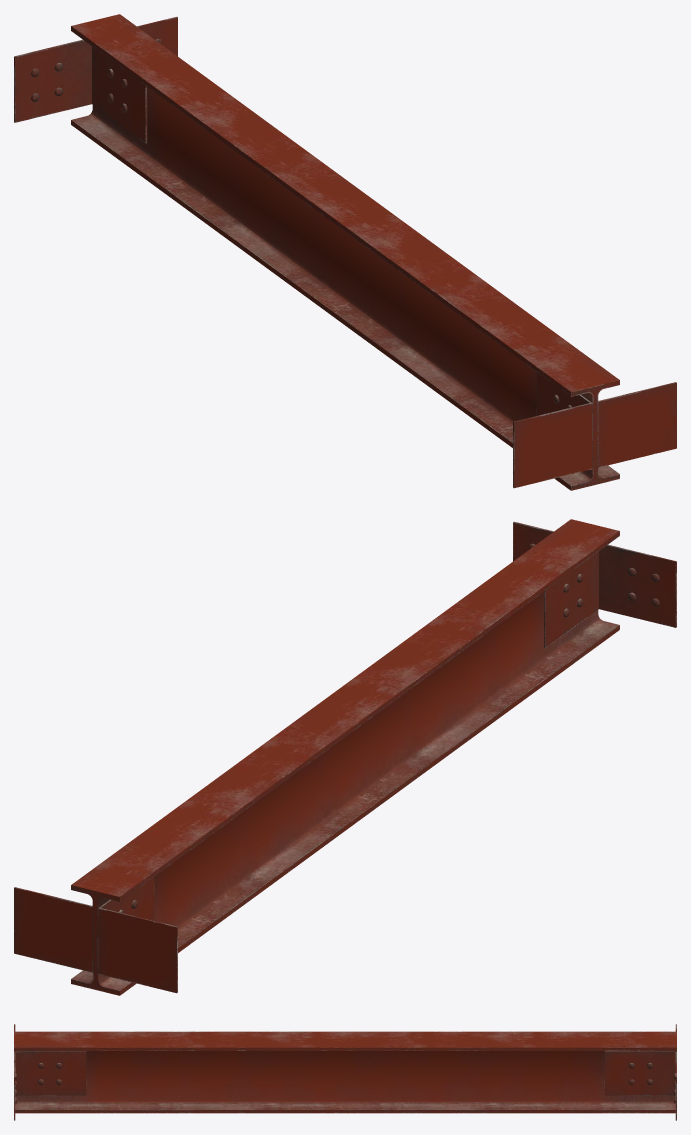
File: celik_h_kiris_4m.gltf
3 renders of one model, top to bottom at view 1: azimuth 30°, elevation 25°; view 2: azimuth 150°, elevation 25°; view 3: azimuth 270°, elevation 25°, orthographic. The views are drawn at different scales.
Parts seen in each view (by area): view 1: celik_h_kiris_4m; view 2: celik_h_kiris_4m; view 3: celik_h_kiris_4m.
Part boxes in pixels (left/top/right/bottom): celik_h_kiris_4m: left=14, top=14, right=676, bottom=490; celik_h_kiris_4m: left=14, top=519, right=676, bottom=995; celik_h_kiris_4m: left=14, top=1024, right=676, bottom=1120.
Size of what is drawn, in the model's own units: 0.7527 by 0.4364 by 4.
Materials: 3 (3 with a texture image).
